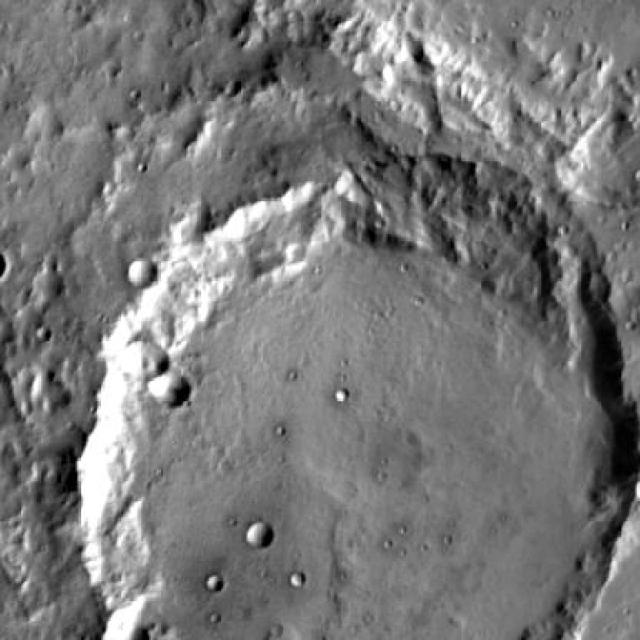crater: (71, 163, 640, 640), (561, 100, 640, 214), (116, 332, 164, 380), (147, 366, 187, 406), (123, 253, 154, 284), (242, 517, 270, 546), (32, 269, 62, 296), (204, 574, 221, 592)
